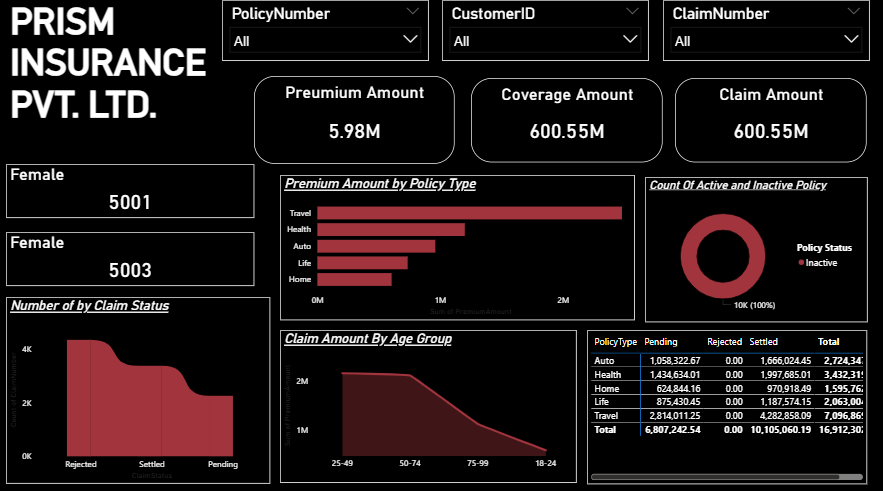

What the dashboard file says about the page in this screenshot:
{"tool":"powerbi","page":{"name":"Page 1","canvas":[1280,720],"ordinal":0},"visuals":[{"type":"textbox","title":"PRISM INSURANCE PVT.  LTD.","box":[10.1,0,296.4,216.9],"z":0},{"type":"card","title":"Preumium Amount","fields":{"Values":["Sum(InsuranceData.PremiumAmount)"]},"box":[368.3,110.8,289.6,126.9],"z":1000},{"type":"card","title":"Coverage Amount","fields":{"Values":["Sum(InsuranceData.CoverageAmount)"]},"box":[682.9,114.4,277.1,121.6],"z":2000},{"type":"card","title":"Claim Amount","fields":{"Values":["Sum(InsuranceData.CoverageAmount)"]},"box":[977.9,114.4,277.1,121.6],"z":3000},{"type":"slicer","fields":{"Values":["InsuranceData.PolicyNumber"]},"box":[322.4,1.4,299.3,88.2],"z":4000},{"type":"slicer","fields":{"Values":["InsuranceData.ClaimNumber"]},"box":[960,1.4,299.3,88.2],"z":5000},{"type":"slicer","fields":{"Values":["InsuranceData.CustomerID"]},"box":[640,1.4,299,88.2],"z":6000},{"type":"card","title":"Female","fields":{"Values":["Measures_Table.Female"]},"box":[10.1,238.6,358.6,78.1],"z":7000},{"type":"card","title":"Female","fields":{"Values":["Measures_Table.Male"]},"box":[10.1,336.9,358.6,78.1],"z":8000},{"type":"clusteredBarChart","title":"Premium Amount by Policy Type","fields":{"Category":["InsuranceData.PolicyType"],"Y":["Sum(InsuranceData.PremiumAmount)"]},"box":[406.3,254.5,513.3,209.6],"z":9000},{"type":"donutChart","title":"Count Of Active and Inactive Policy","fields":{"Category":["InsuranceData.Policy Status"],"Y":["CountNonNull(InsuranceData.PolicyNumber)"]},"box":[933.3,256.7,321.7,210],"z":10000},{"type":"ribbonChart","title":"Number of  by Claim Status","fields":{"Category":["InsuranceData.ClaimStatus"],"Y":["CountNonNull(InsuranceData.ClaimNumber)"]},"box":[10.1,430.8,381.7,270.4],"z":11000},{"type":"stackedAreaChart","title":"Claim Amount By Age Group","fields":{"Category":["InsuranceData.Age Group"],"Y":["Sum(InsuranceData.PremiumAmount)"]},"box":[406.3,478.6,429.4,221.2],"z":12000},{"type":"pivotTable","fields":{"Rows":["InsuranceData.PolicyType"],"Values":["Sum(InsuranceData.ClaimAmount)"],"Columns":["InsuranceData.ClaimStatus"]},"box":[850.1,478.6,404.8,222.7],"z":13000}]}

Visuals, with their boxes in screenshot pixels (x1, y1, x2, y2), scaled from the page's 1280x720 canvas onto the 883x491 screenshot:
"PRISM INSURANCE PVT.  LTD." textbox: rect(7, 0, 211, 148)
"Preumium Amount" card: rect(254, 76, 454, 162)
"Coverage Amount" card: rect(471, 78, 662, 161)
"Claim Amount" card: rect(675, 78, 866, 161)
slicer - InsuranceData.PolicyNumber: rect(222, 1, 429, 61)
slicer - InsuranceData.ClaimNumber: rect(662, 1, 869, 61)
slicer - InsuranceData.CustomerID: rect(442, 1, 648, 61)
"Female" card: rect(7, 163, 254, 216)
"Female" card: rect(7, 230, 254, 283)
"Premium Amount by Policy Type" clusteredBarChart: rect(280, 174, 634, 316)
"Count Of Active and Inactive Policy" donutChart: rect(644, 175, 866, 318)
"Number of  by Claim Status" ribbonChart: rect(7, 294, 270, 478)
"Claim Amount By Age Group" stackedAreaChart: rect(280, 326, 577, 477)
pivotTable - InsuranceData.PolicyType x Sum(InsuranceData.ClaimAmount): rect(586, 326, 866, 478)
